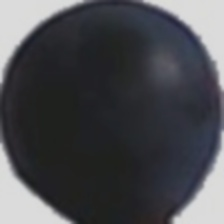grapes: (21, 30, 204, 199)
